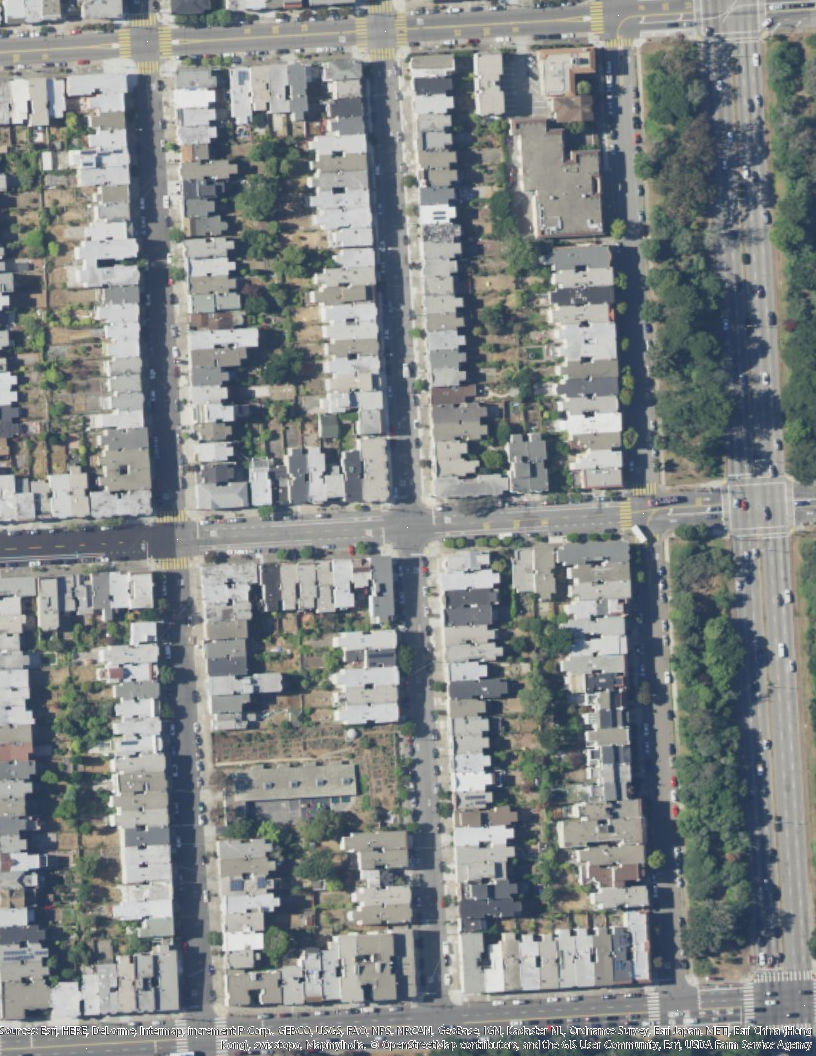zebracross: (157, 26, 173, 58), (117, 27, 133, 59), (393, 12, 409, 44), (354, 16, 369, 48), (158, 557, 190, 571), (590, 2, 604, 33), (154, 509, 185, 523), (130, 14, 158, 28), (620, 500, 632, 529), (370, 47, 395, 60), (366, 1, 393, 13), (632, 483, 658, 495), (137, 60, 159, 74), (607, 39, 633, 49)
